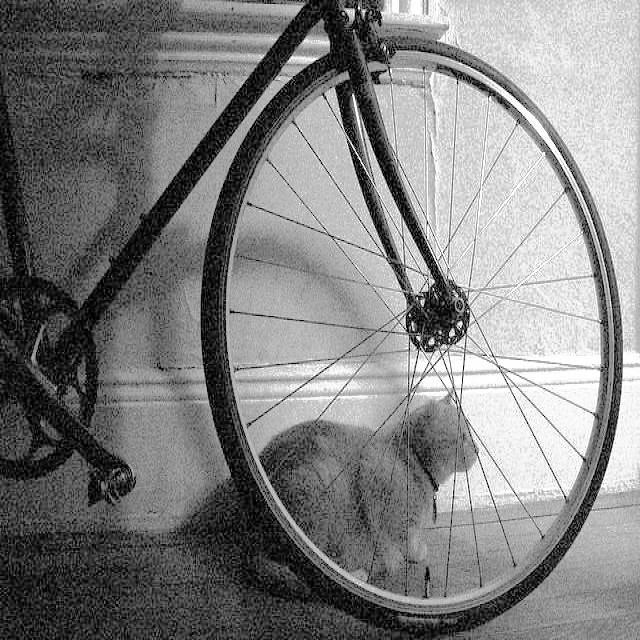Bicycle: (0, 15, 628, 625)
Cat: (246, 366, 491, 614)
